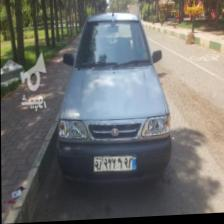plate: (92, 153, 136, 176)
